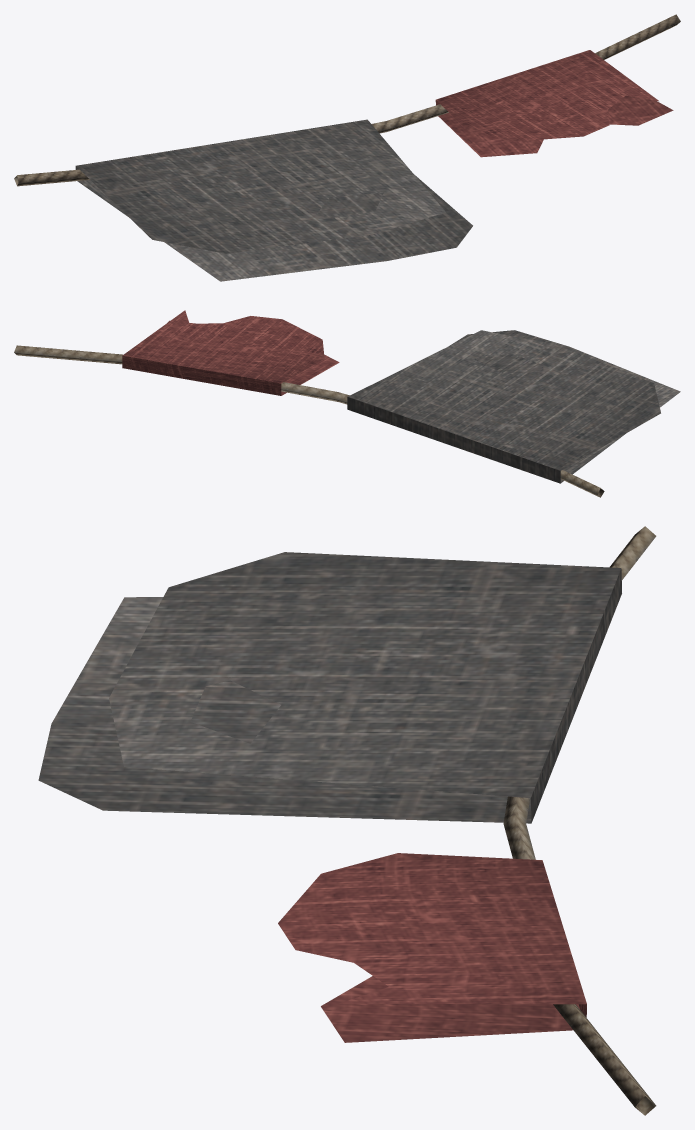
File: Clothe_Line_Short_B.fbx
3 views of the same model, one above another, from view 1: azimuth 30°, elevation 25°; view 2: azimuth 150°, elevation 25°; view 3: azimuth 270°, elevation 25° (orthographic). The views are drawn at different scales.
Parts seen in each view (by area): view 1: Clothe_Line_Short_B; view 2: Clothe_Line_Short_B; view 3: Clothe_Line_Short_B.
Boxes of the visible parts, left/top/right/bottom form: Clothe_Line_Short_B: left=14, top=14, right=680, bottom=281; Clothe_Line_Short_B: left=14, top=310, right=680, bottom=497; Clothe_Line_Short_B: left=38, top=526, right=656, bottom=1115.
Bounding box in the file's own units: 3.22 × 0.0666 × 1.47.
